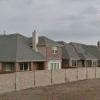Chimney: (24, 27, 46, 57)
